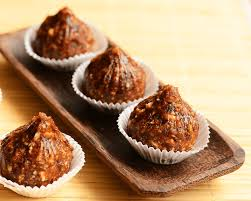modak: (34, 9, 147, 104), (1, 110, 81, 187), (132, 85, 203, 150)
